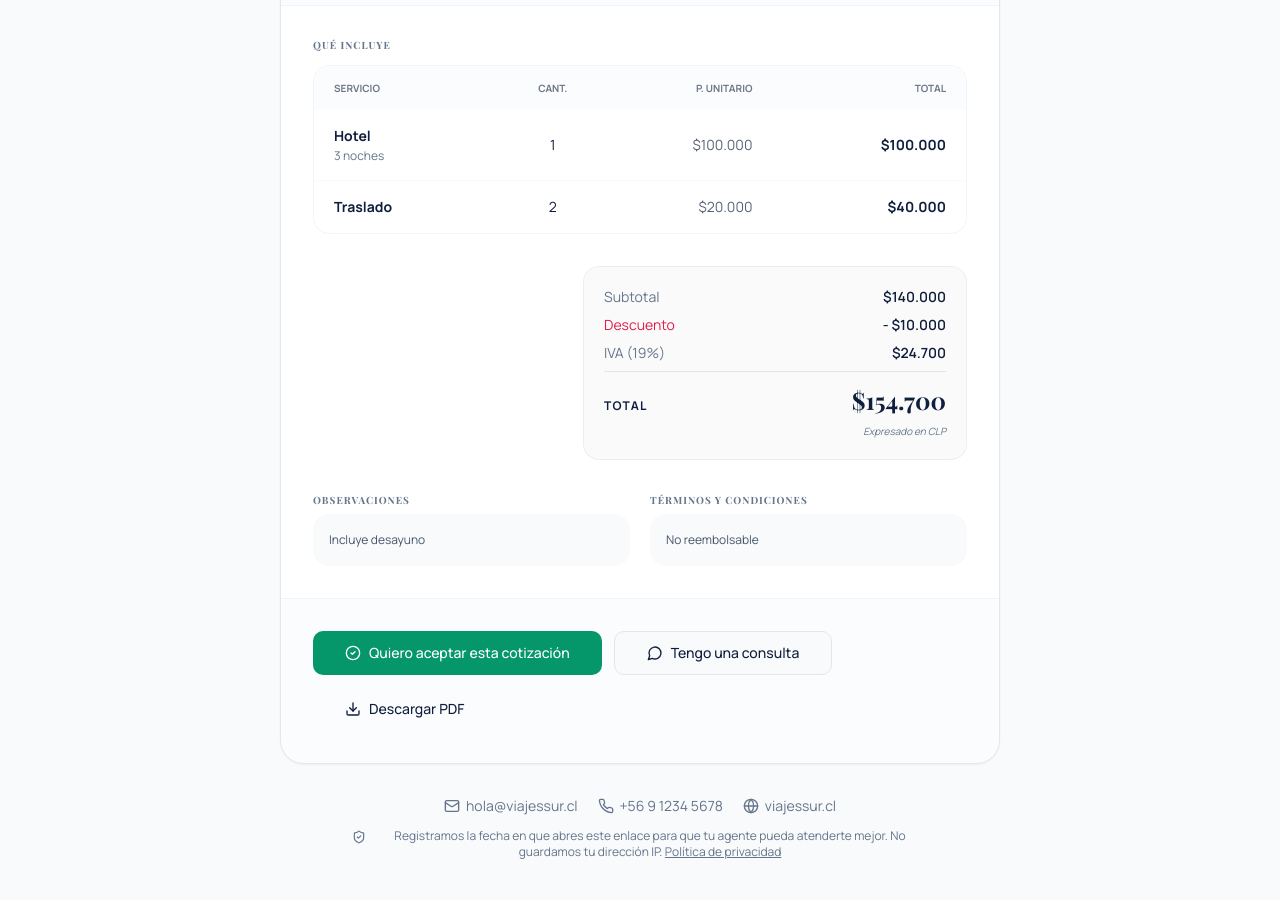
Test case: PublicQuotation › si el envío falla muestra el motivo y deja reintentar sin cerrar
(page scrolled)
Click the button "Tengo una consulta" at {"x": 723, "y": 653}, box [614, 631, 832, 675]
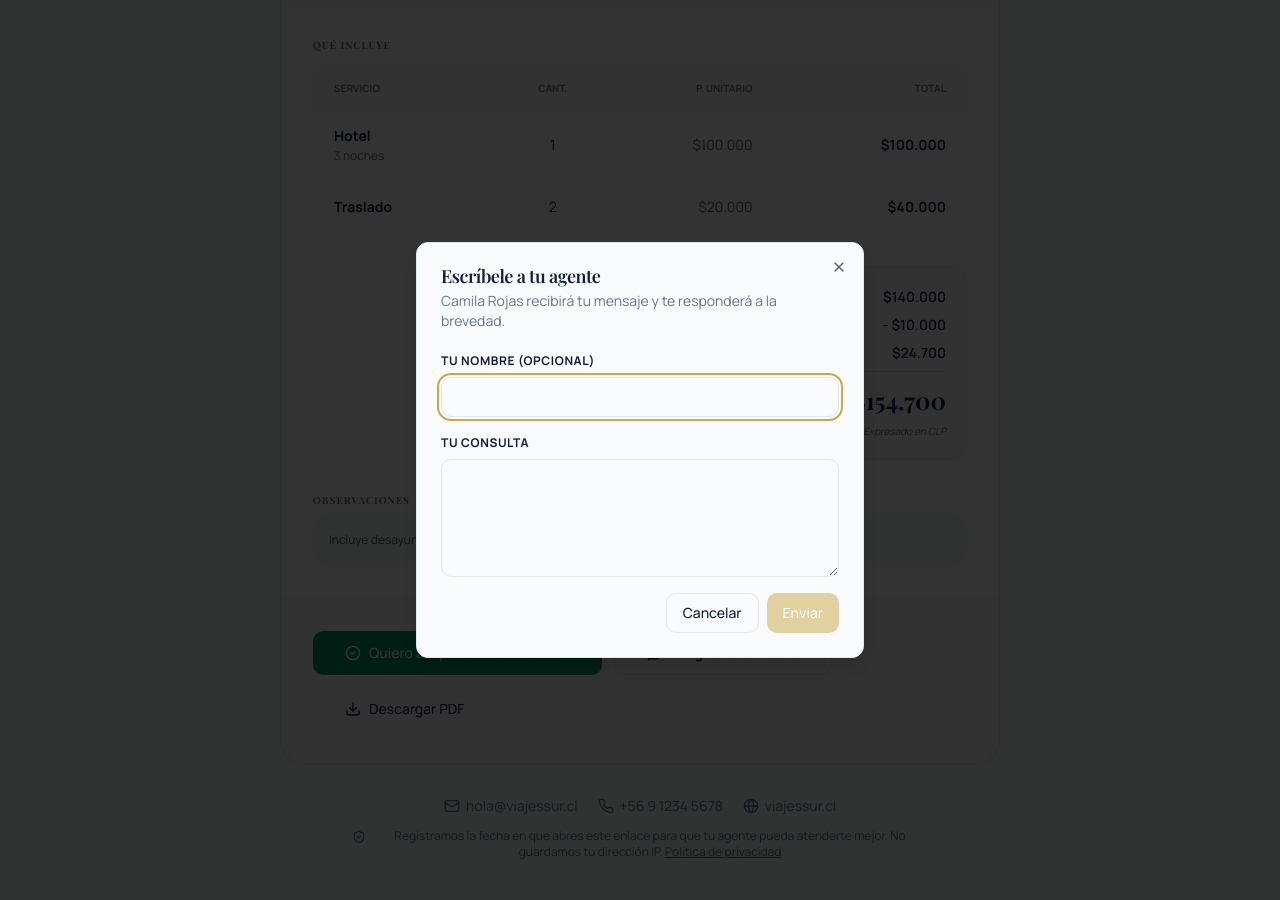
Type "hola" into the text box labelled "Tu consulta" at {"x": 640, "y": 518}, box [441, 459, 839, 577]
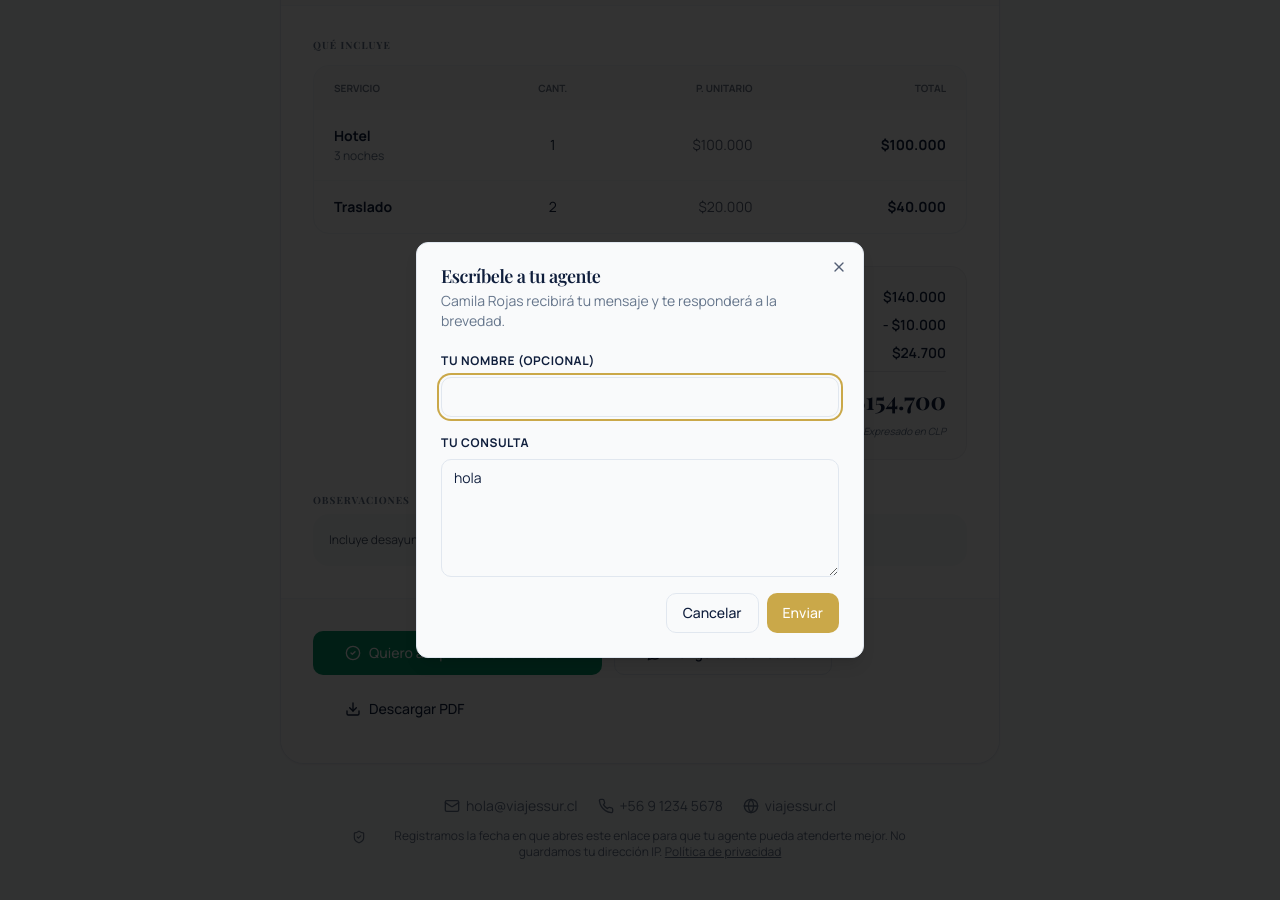
Click the button "Enviar" at {"x": 803, "y": 613}, box [767, 593, 839, 633]
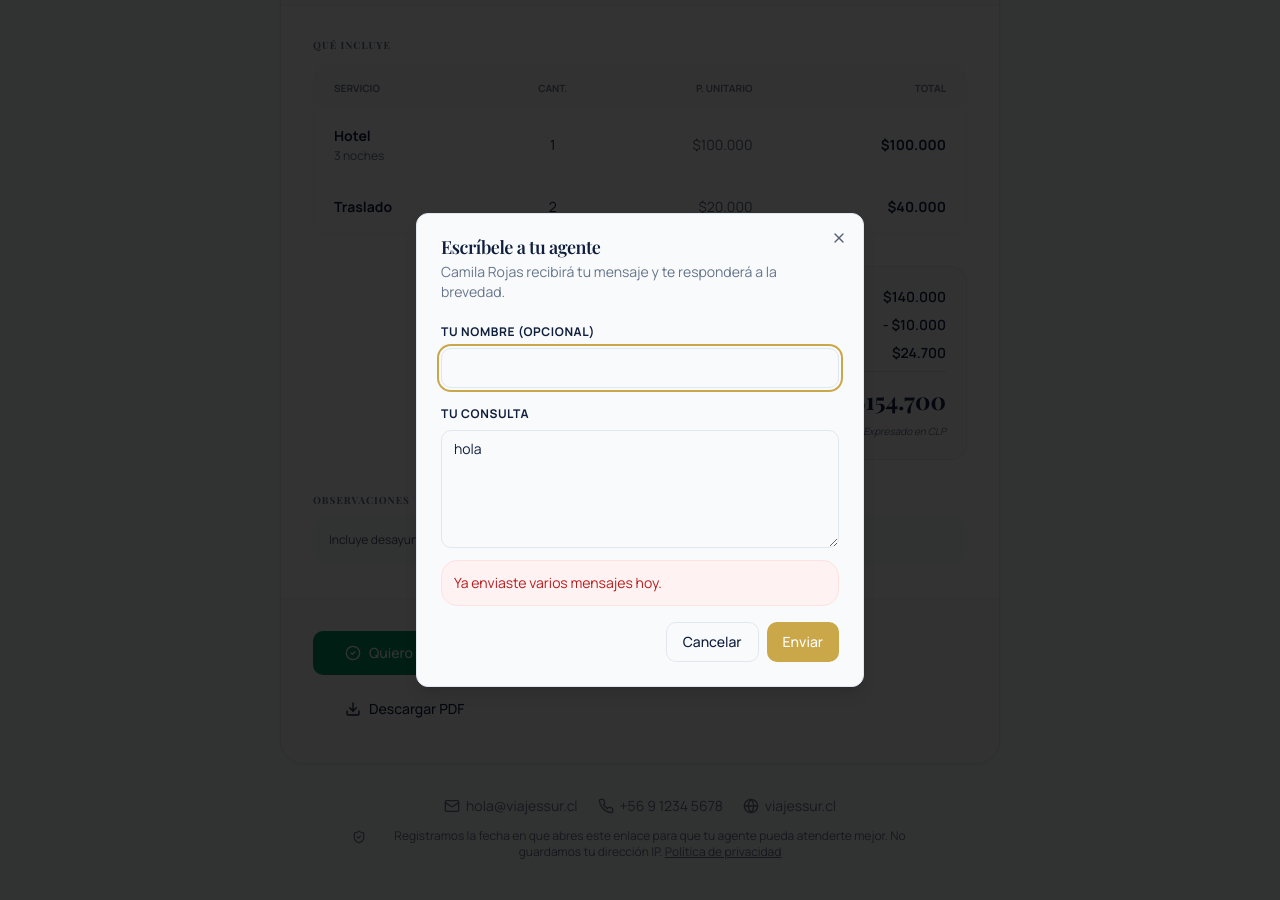
expect the message reads "Ya enviaste varios mensajes hoy.": met, box [454, 573, 662, 592]
